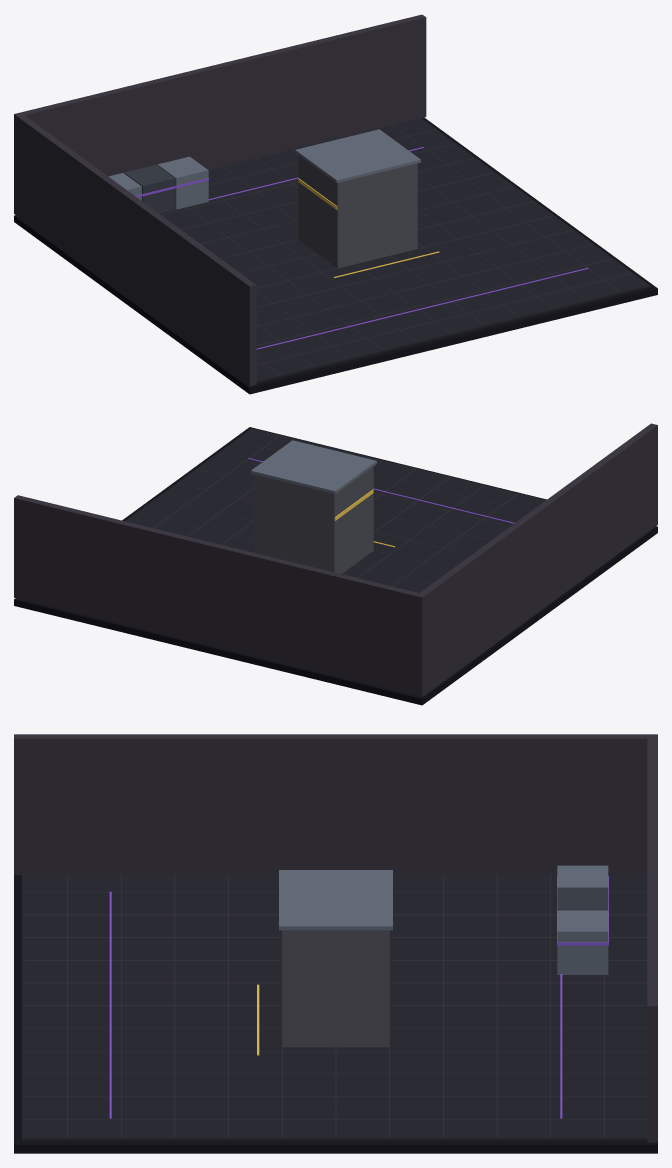
3 renders of one model, top to bottom at view 1: azimuth 30°, elevation 25°; view 2: azimuth 150°, elevation 25°; view 3: azimuth 270°, elevation 25°, orthographic. The views are drawn at different scales.
Visible parts, largest first — view 1: floor, back-wall, left-wall, cover, foundation, cover-cap, crate-2, crate-1, walkway-guide; view 2: back-wall, left-wall, floor, cover, foundation, cover-cap; view 3: floor, left-wall, cover, foundation, cover-cap, back-wall, crate-2, floor-x-3, crate-0, crate-1, floor-x--1, floor-x--4 (+4 smaller).
Part boxes in pixels (<box>): floor: <box>160,118,649,383</box>; back-wall: <box>14,14,426,215</box>; left-wall: <box>14,114,256,386</box>; cover: <box>298,155,417,268</box>; foundation: <box>14,117,657,394</box>; cover-cap: <box>295,129,420,182</box>; crate-2: <box>157,156,208,209</box>; crate-1: <box>124,164,175,213</box>; walkway-guide: <box>256,268,588,349</box>; back-wall: <box>14,495,426,697</box>; left-wall: <box>415,423,657,696</box>; floor: <box>125,428,545,592</box>; cover: <box>254,466,373,573</box>; foundation: <box>14,427,657,705</box>; cover-cap: <box>251,440,376,493</box>; floor: <box>22,874,647,1141</box>; left-wall: <box>14,734,657,874</box>; cover: <box>282,930,389,1047</box>; foundation: <box>14,875,657,1153</box>; cover-cap: <box>279,870,392,930</box>; back-wall: <box>647,734,657,1142</box>; crate-2: <box>557,910,608,974</box>; floor-x-3: <box>25,1073,646,1074</box>; crate-0: <box>557,865,608,887</box>; crate-1: <box>557,888,608,910</box>; floor-x--1: <box>25,982,646,983</box>; floor-x--4: <box>25,914,646,915</box>.
Size of the model in its own units: 12 by 3.03 by 12.
